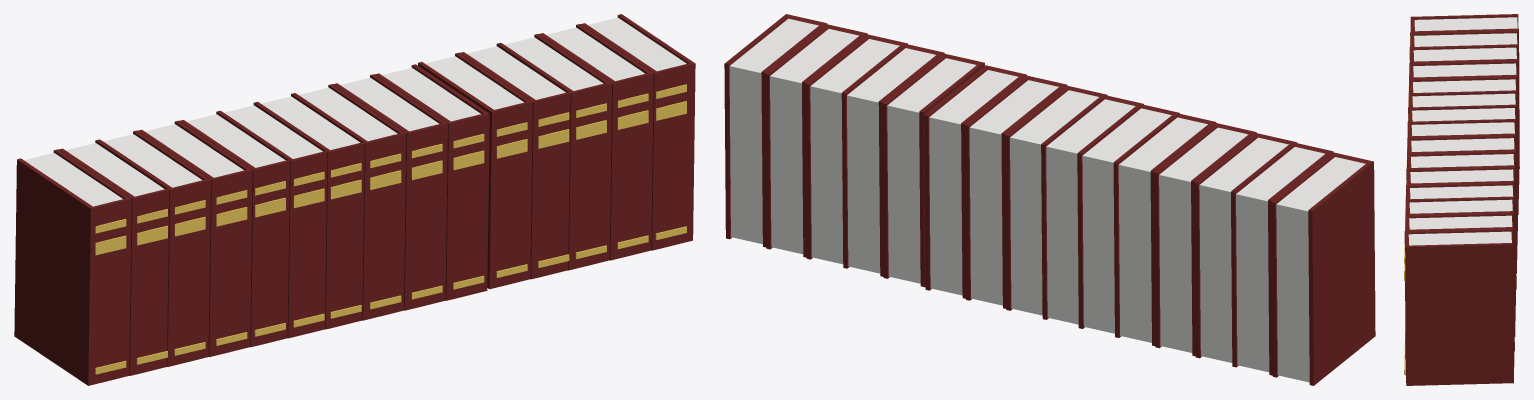
File: Books_4_231109.glb
3 views of the same model, side by side, from view 1: azimuth 30°, elevation 25°; view 2: azimuth 150°, elevation 25°; view 3: azimuth 270°, elevation 25° (orthographic). The views are drawn at different scales.
Parts seen in each view (by area): view 1: Books_4; view 2: Books_4; view 3: Books_4.
Boxes of the visible parts, left/top/right/bottom form: Books_4: left=14, top=14, right=695, bottom=385; Books_4: left=724, top=14, right=1375, bottom=385; Books_4: left=1404, top=14, right=1519, bottom=385.
Bounding box in the file's own units: 2.48 × 0.6983 × 0.5178.
1 material, 1 textured.
